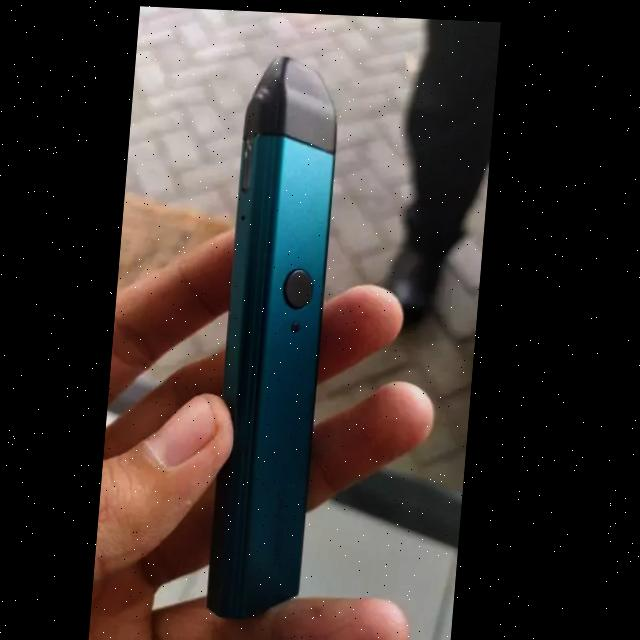vape: (212, 54, 349, 619)
